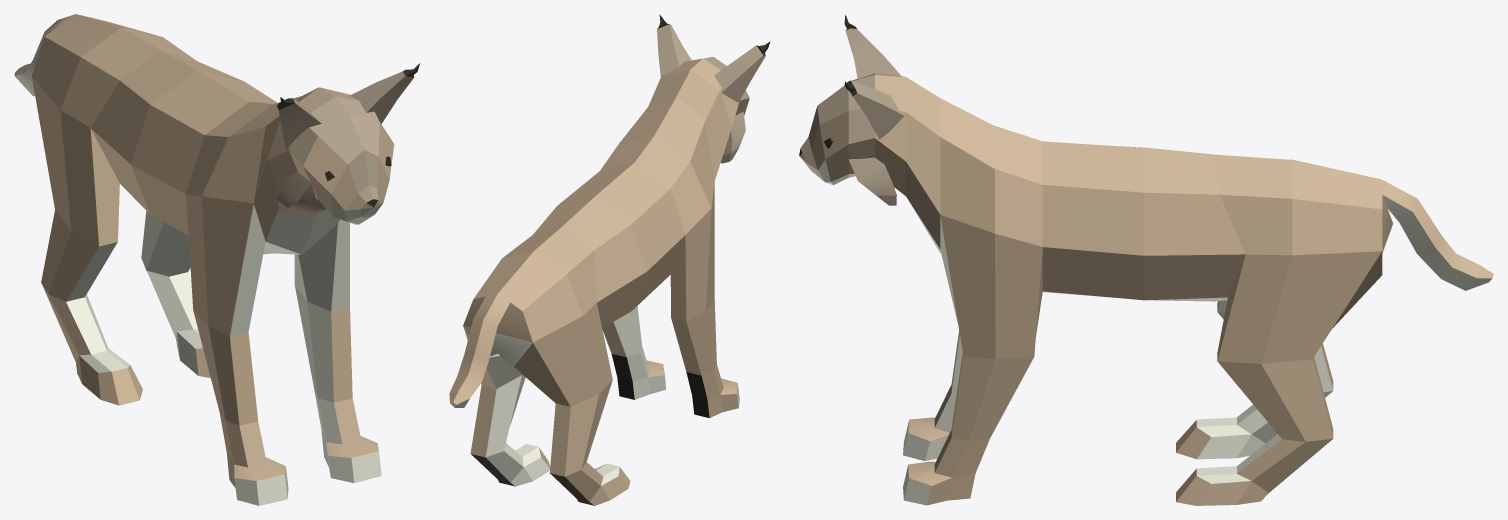
3 renders of one model, left to right at view 1: azimuth 30°, elevation 25°; view 2: azimuth 150°, elevation 25°; view 3: azimuth 270°, elevation 25°, orthographic. The views are drawn at different scales.
Visible parts, largest first — view 1: Geo_Bobcat; view 2: Geo_Bobcat; view 3: Geo_Bobcat.
Part boxes in pixels (x1,y1,x2,y2): Geo_Bobcat: (14,14,420,505); Geo_Bobcat: (449,14,770,505); Geo_Bobcat: (799,15,1493,505).
Bounding box in the file's own units: 32 × 92.21 × 137.
1 material, 1 textured.
